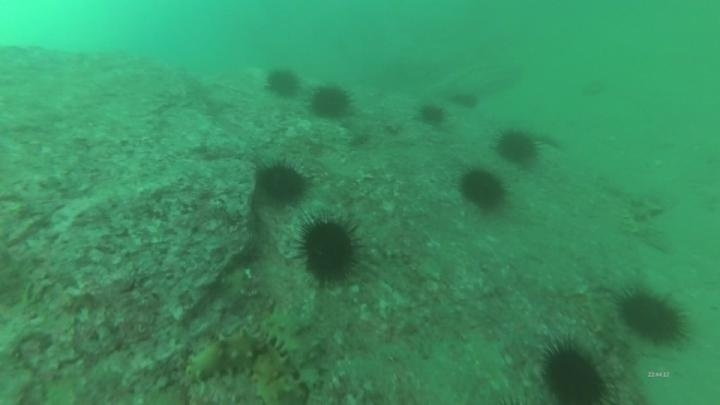echinus: (295, 214, 364, 286), (537, 338, 611, 405), (615, 285, 691, 348), (255, 158, 312, 207), (458, 166, 509, 213), (494, 127, 541, 167), (308, 83, 354, 121), (264, 66, 302, 100), (416, 101, 448, 128), (450, 88, 481, 111)
holothurian: (184, 327, 296, 395), (257, 308, 326, 377), (582, 289, 629, 357), (249, 339, 295, 404)
